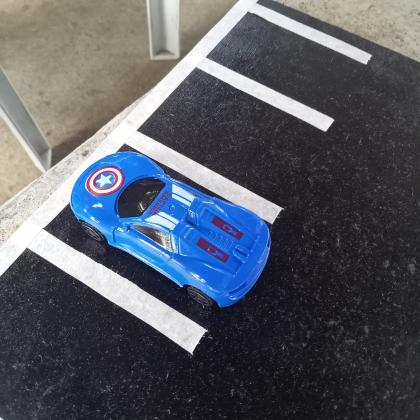Car: (68, 152, 273, 309)
